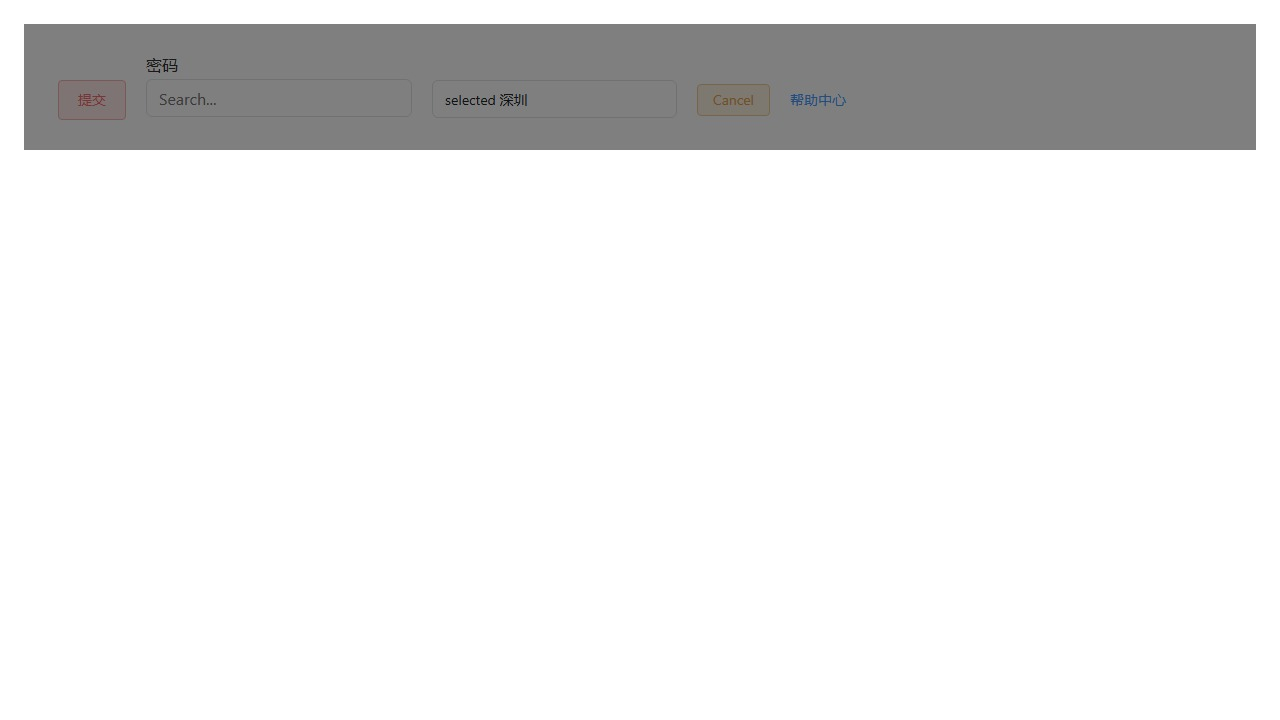button: (58, 79, 126, 119), (697, 83, 770, 115)
input: (146, 79, 412, 117)
link: (790, 89, 846, 109)
modal: (24, 24, 1256, 150)
select: (432, 80, 677, 118)
